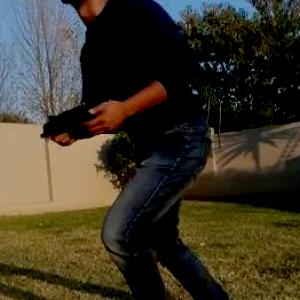follow: (36, 0, 248, 299)
